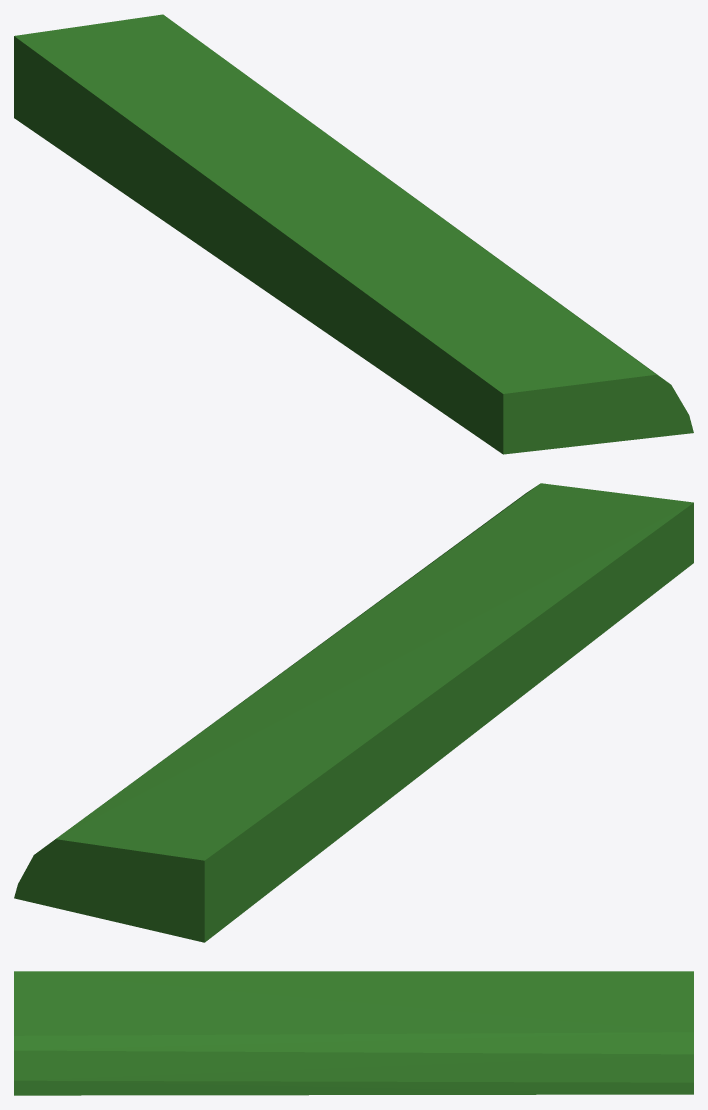
The picture shows the model from 3 angles, top to bottom: view 1: azimuth 30°, elevation 25°; view 2: azimuth 150°, elevation 25°; view 3: azimuth 270°, elevation 25°; orthographic projection. The views are drawn at different scales.
Size of the model in its own units: 1.27 by 0.545 by 5.65.
